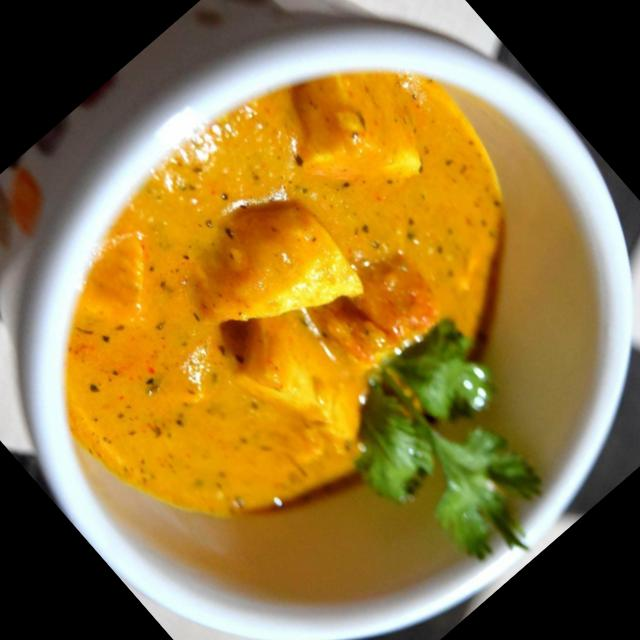ShahiPaneer: (0, 0, 607, 611)
